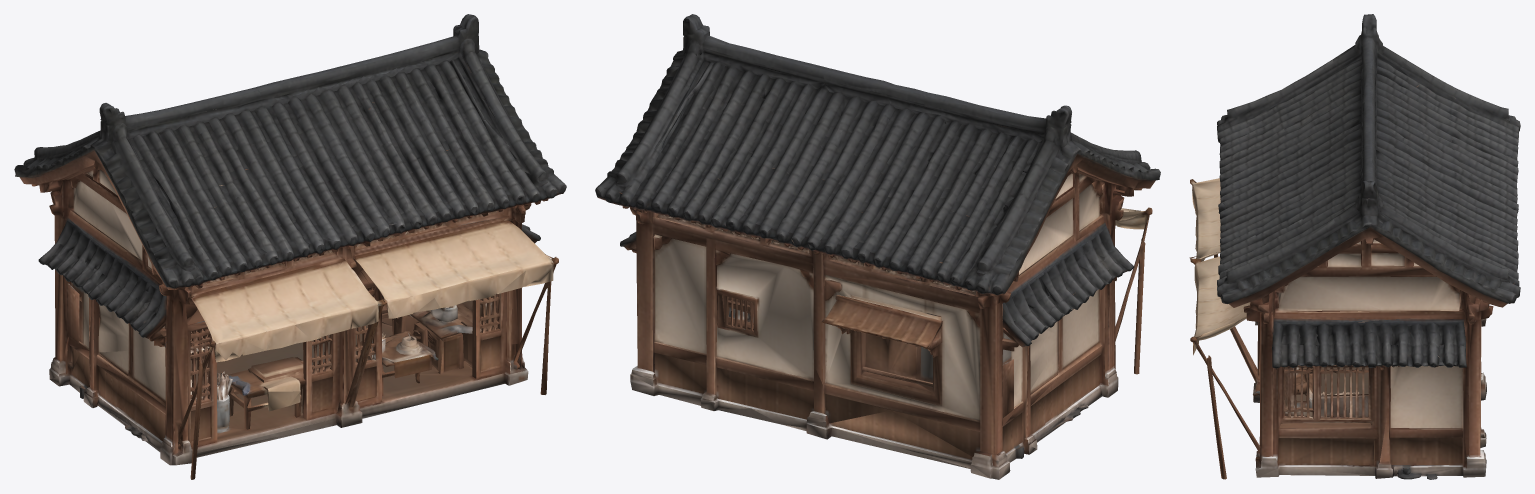
Rendered from 10_Book_Paper_Shop_LOD1.fbx.
3 renders of one model, left to right at view 1: azimuth 30°, elevation 25°; view 2: azimuth 150°, elevation 25°; view 3: azimuth 270°, elevation 25°, orthographic. The views are drawn at different scales.
Parts seen in each view (by area): view 1: 10_Book_Paper_Shop_L1; view 2: 10_Book_Paper_Shop_L1; view 3: 10_Book_Paper_Shop_L1.
Boxes of the visible parts, x1,y1,x2,y2 form: 10_Book_Paper_Shop_L1: (14, 14, 566, 479); 10_Book_Paper_Shop_L1: (595, 14, 1160, 479); 10_Book_Paper_Shop_L1: (1189, 14, 1520, 479).
Size of the model in its own units: 7.19 by 5.5 by 5.51.
